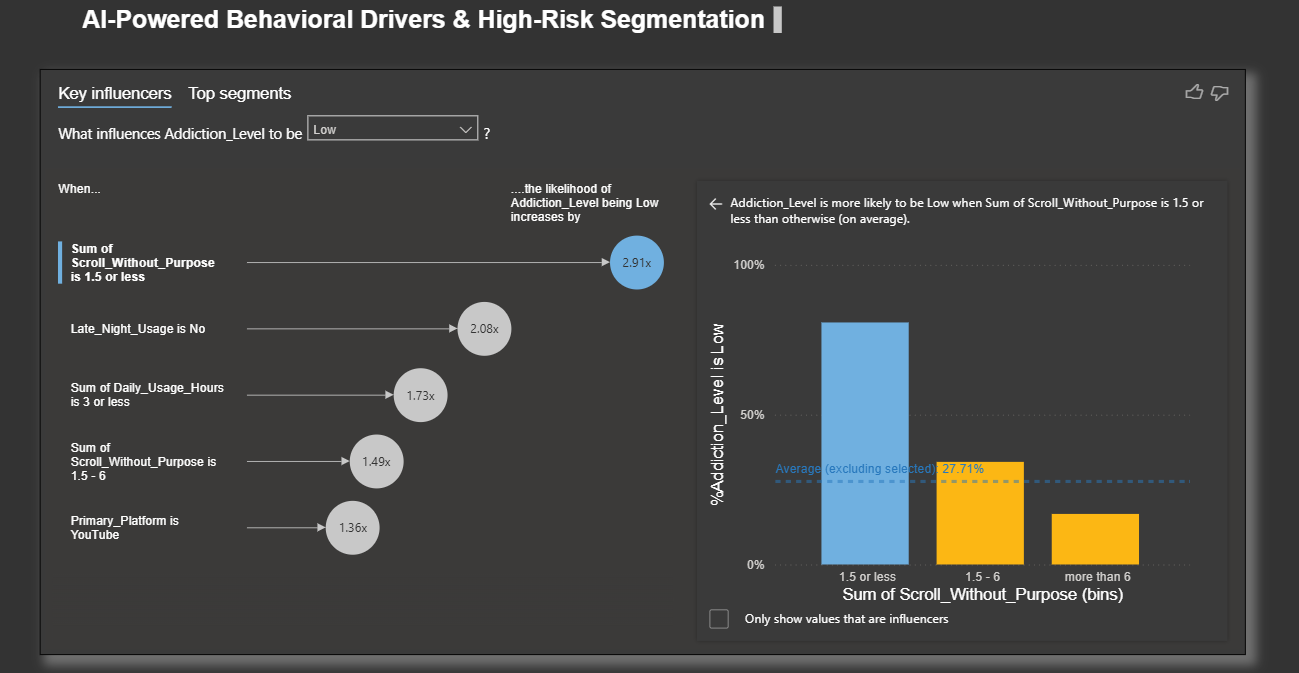

This screenshot's page, from the dashboard's own definition file:
{"tool":"powerbi","page":{"name":"Page 3","canvas":[1280,720],"ordinal":2},"visuals":[{"type":"keyDriversVisual","fields":{"Target":["social_media_addiction_mental_wellbeing.Addiction_Level"],"ExplainBy":["Sum(social_media_addiction_mental_wellbeing.Daily_Usage_Hours)","social_media_addiction_mental_wellbeing.Late_Night_Usage","social_media_addiction_mental_wellbeing.Primary_Platform","Sum(social_media_addiction_mental_wellbeing.Scroll_Without_Purpose)","Sum(social_media_addiction_mental_wellbeing.Age)","Sum(social_media_addiction_mental_wellbeing.Anxiety_Score)"]},"box":[56.7,77.2,1164.2,565.8],"z":0},{"type":"textbox","box":[92.9,12.1,685.3,36.2],"z":1}]}

Visuals, with their boxes on the page's 1280x720 design canvas (x1, y1, x2, y2). These are canvas units, not pixel positions in the 1299x673 screenshot, which may show the page scaled, cropped or inside an application window:
keyDriversVisual - social_media_addiction_mental_wellbeing.Addiction_Level x Sum(social_media_addiction_mental_wellbeing.Daily_Usage_Hours): l=57, t=77, r=1221, b=643
textbox: l=93, t=12, r=778, b=48
